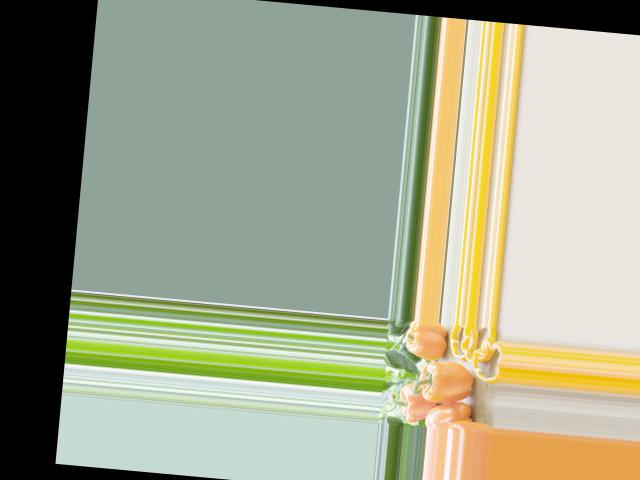bell_pepper: (423, 399, 475, 431)
